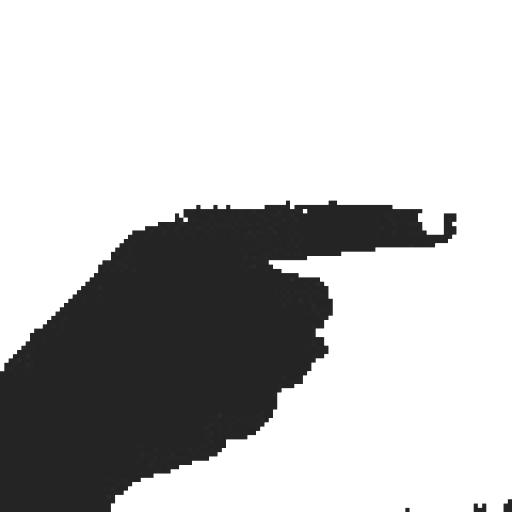index_left: (0, 198, 458, 402)
